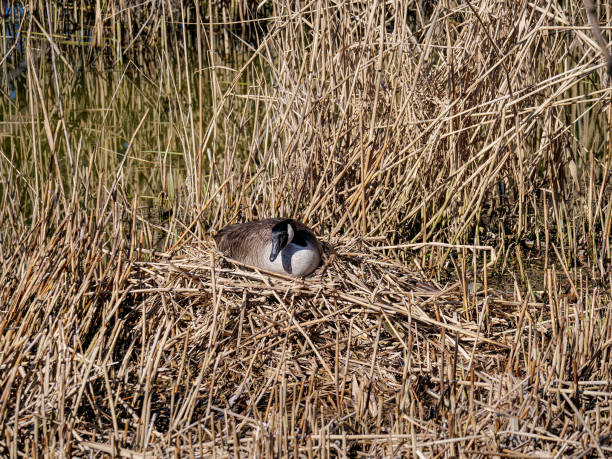goose: (212, 214, 323, 275)
